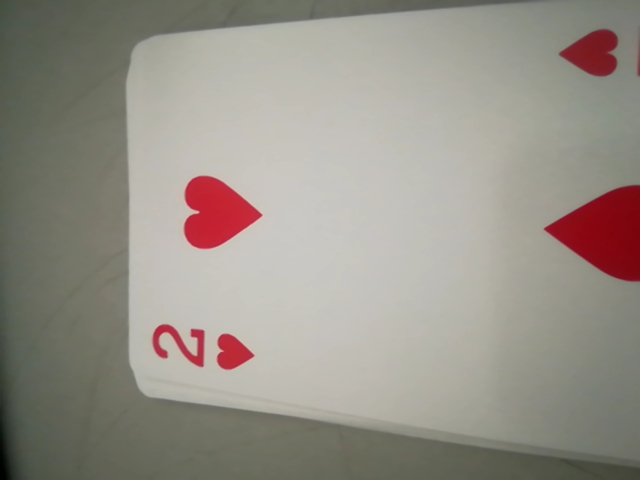hx 2: (148, 315, 274, 382)
